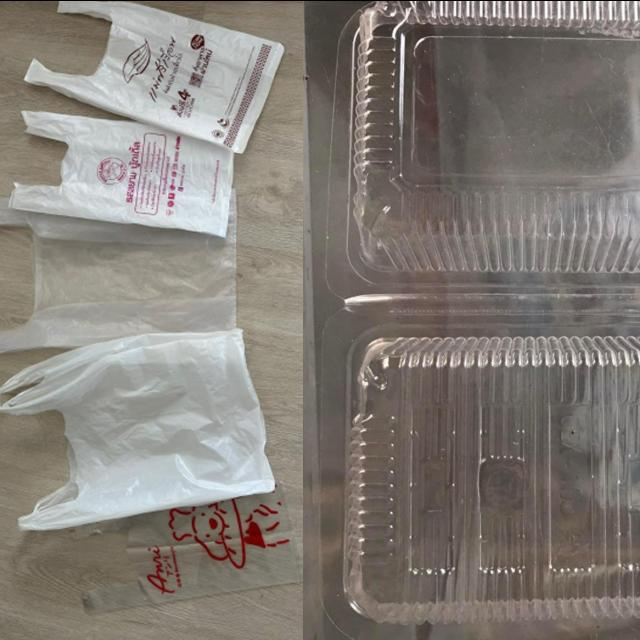plastik: (321, 0, 640, 640), (0, 328, 275, 530), (24, 0, 284, 151), (0, 197, 236, 352), (75, 483, 300, 612), (9, 110, 233, 236)
